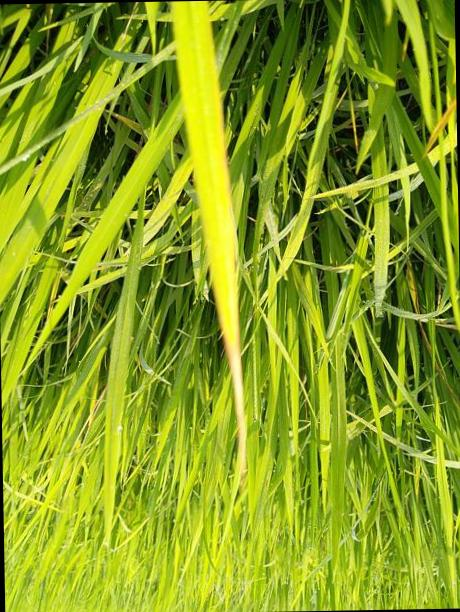Leaf Blight: (204, 202, 246, 455)
